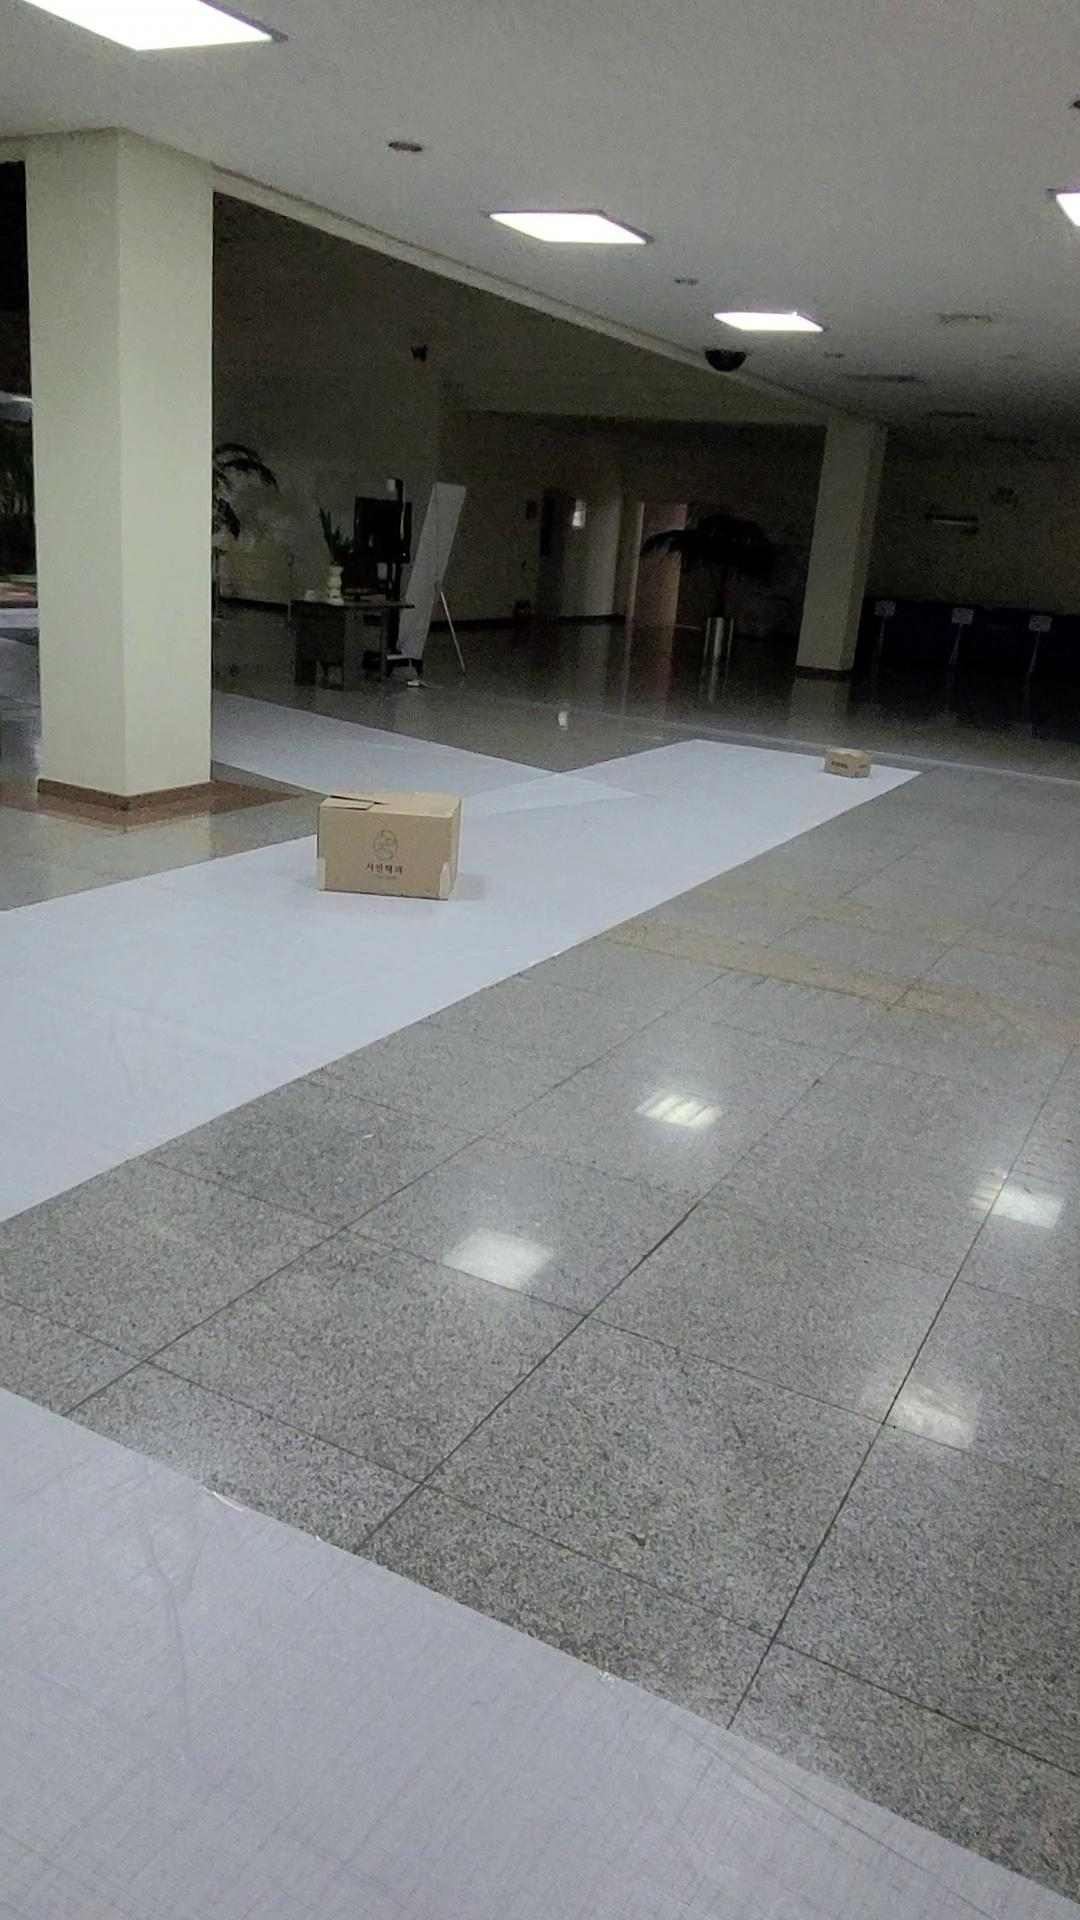Box: (284, 770, 492, 920), (793, 725, 894, 815)
